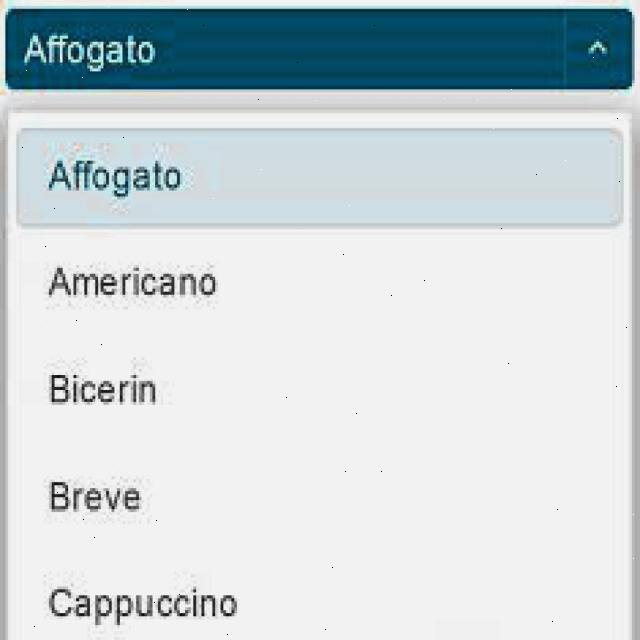dropdownMenu: (6, 9, 633, 640)
menuItem: (16, 127, 622, 227), (39, 255, 238, 310), (45, 580, 246, 634), (44, 364, 166, 414), (42, 470, 157, 522)
